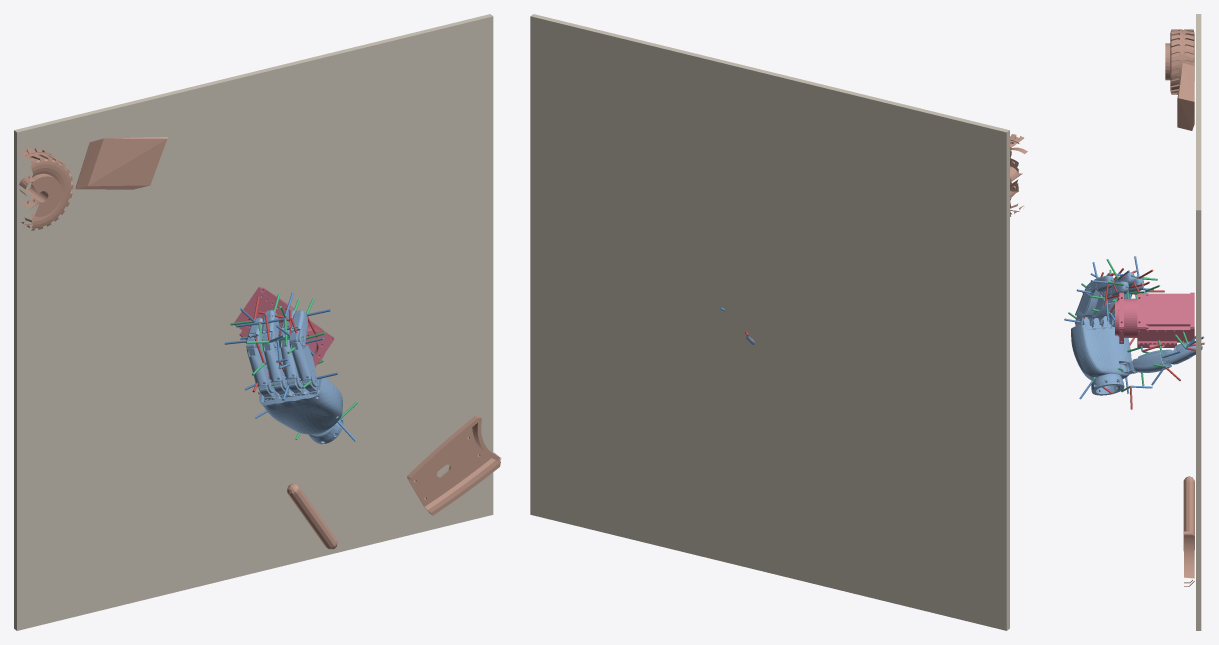
3 renders of one model, left to right at view 1: azimuth 30°, elevation 25°; view 2: azimuth 150°, elevation 25°; view 3: azimuth 270°, elevation 25°, orthographic. The views are drawn at different scales.
Visible parts, largest first — view 1: environment, hand, local_object_002, local_object_003, local_object_001, target_object, local_object_000; view 2: environment; view 3: hand, target_object, environment, local_object_001, local_object_003, local_object_000, local_object_002.
Part boxes in pixels (box(x1,y1,x2,y2)): environment: box(14, 14, 493, 630); hand: box(246, 310, 343, 444); local_object_002: box(407, 415, 501, 515); local_object_003: box(75, 137, 167, 189); local_object_001: box(19, 148, 73, 230); target_object: box(234, 286, 334, 367); local_object_000: box(287, 483, 337, 549); environment: box(530, 14, 1009, 630); hand: box(1071, 272, 1202, 395); target_object: box(1115, 292, 1194, 347); environment: box(1196, 14, 1201, 630); local_object_001: box(1165, 29, 1194, 94); local_object_003: box(1177, 63, 1194, 130); local_object_000: box(1183, 476, 1194, 550); local_object_002: box(1184, 531, 1194, 586).
Size of the model in its own units: 0.7131 by 0.7 by 0.212.
